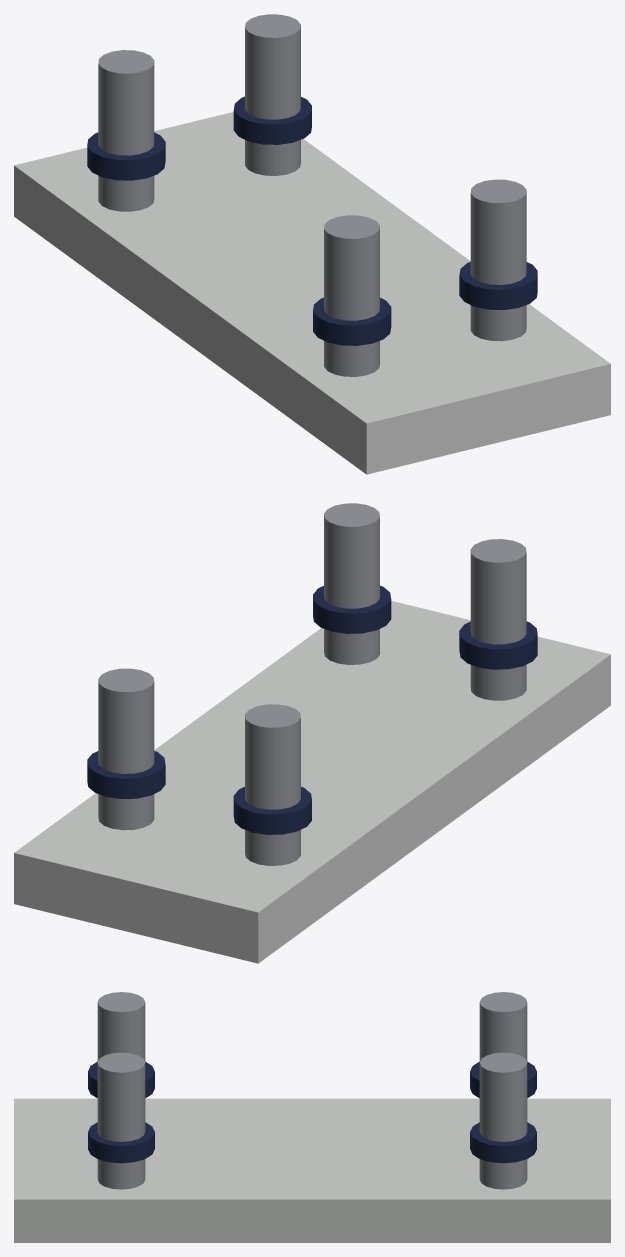
Rendered from s60_heat_pipe_column.obj.
The picture shows the model from 3 angles, top to bottom: view 1: azimuth 30°, elevation 25°; view 2: azimuth 150°, elevation 25°; view 3: azimuth 270°, elevation 25°; orthographic projection. The views are drawn at different scales.
Visible parts, largest first — view 1: s60_heat_pipe_column; view 2: s60_heat_pipe_column; view 3: s60_heat_pipe_column.
Boxes of the visible parts, x1=… form: s60_heat_pipe_column: x1=14, y1=14, x2=610, y2=474; s60_heat_pipe_column: x1=14, y1=503, x2=610, y2=963; s60_heat_pipe_column: x1=14, y1=992, x2=610, y2=1242.
Size of the model in its own units: 0.3606 by 0.2668 by 0.9015.
